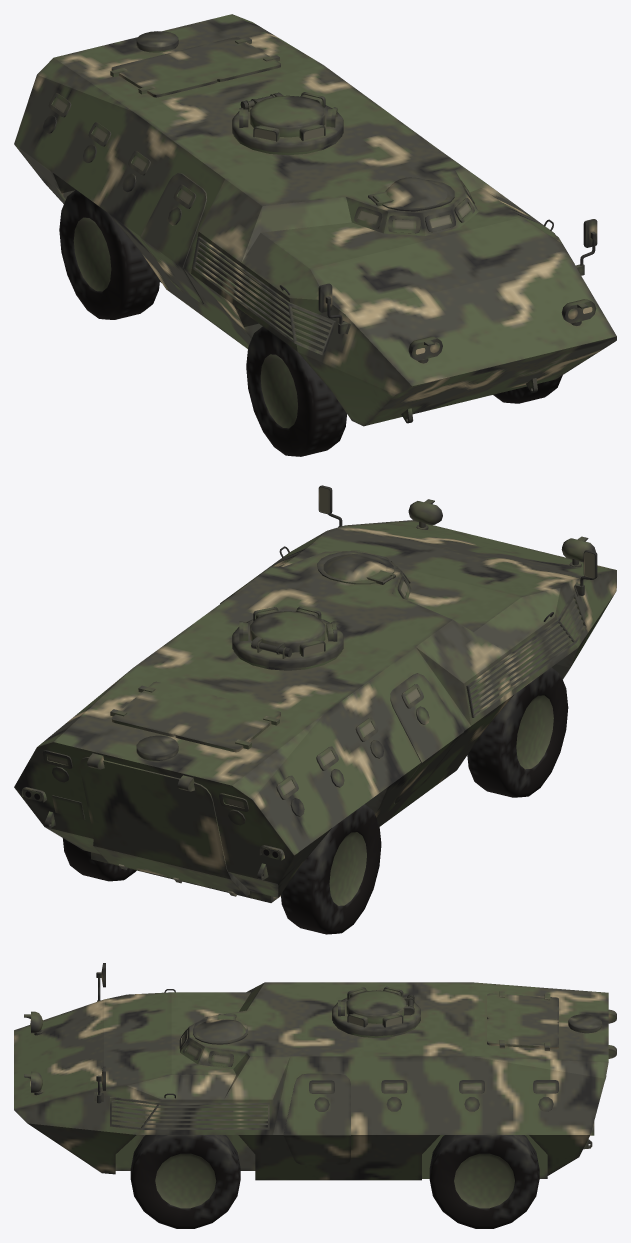
Rendered from flameVehicle.glb.
3 renders of one model, top to bottom at view 1: azimuth 30°, elevation 25°; view 2: azimuth 150°, elevation 25°; view 3: azimuth 270°, elevation 25°, orthographic. The views are drawn at different scales.
Parts seen in each view (by area): view 1: Body; view 2: Body; view 3: Body.
Part boxes in pixels (left/top/right/bottom): Body: left=14, top=14, right=616, bottom=456; Body: left=14, top=485, right=616, bottom=934; Body: left=14, top=963, right=616, bottom=1228.
Bounding box in the file's own units: 1.47 × 1.13 × 3.4.
Materials: 1 (1 with a texture image).
